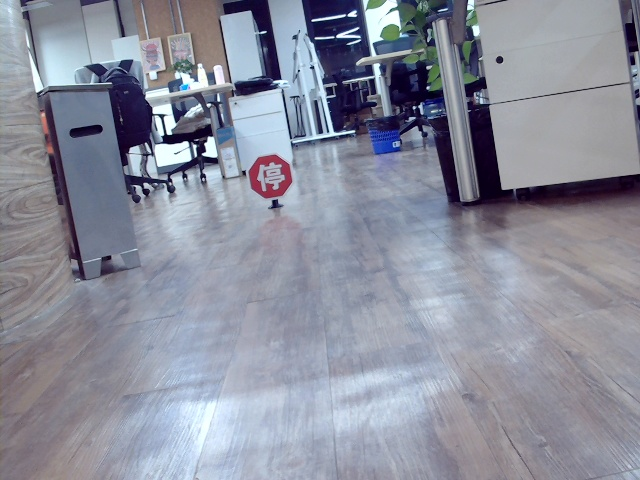stop: (253, 162, 284, 191)
